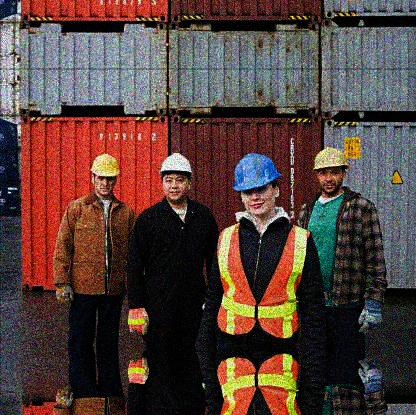helmet: (230, 152, 282, 217), (311, 146, 351, 198), (157, 154, 194, 205), (89, 154, 119, 198)
